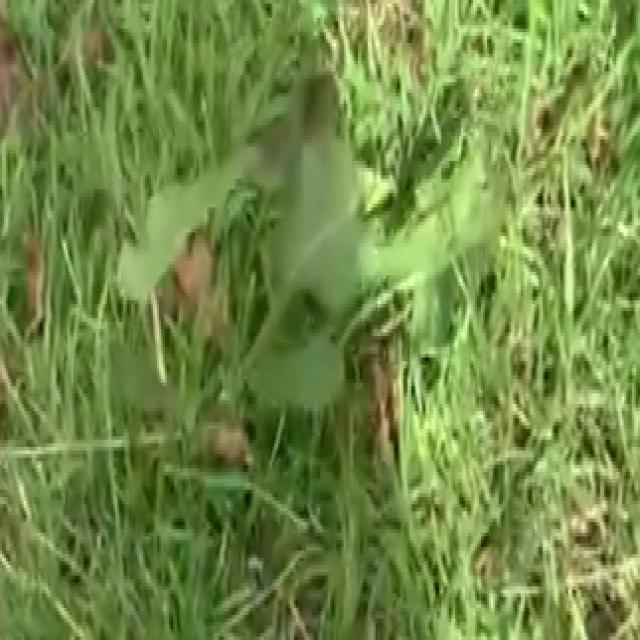organic waste: (135, 18, 467, 515)
